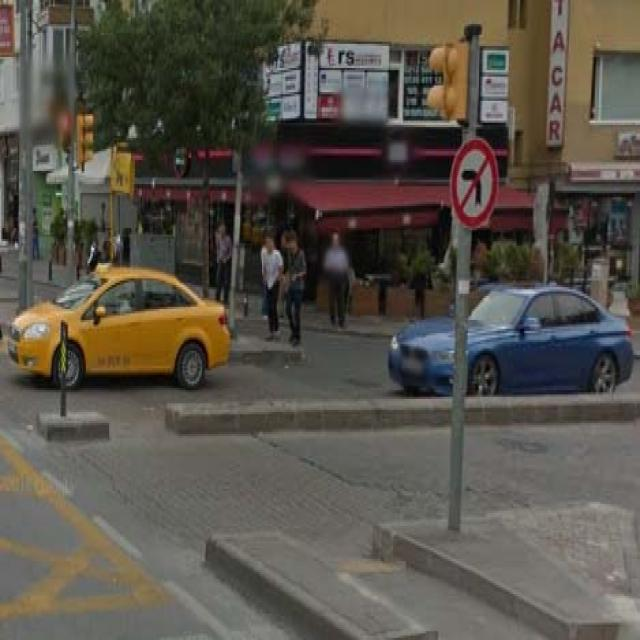soladonulmez: (450, 140, 498, 228)
